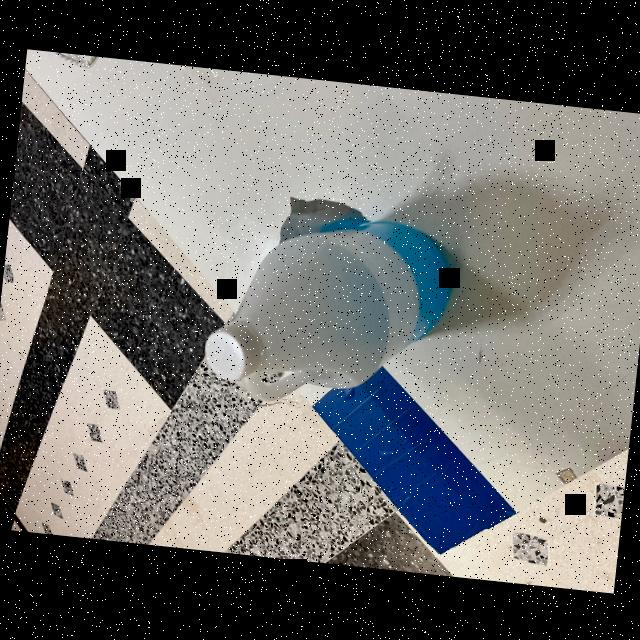chemical_plastic_gallon: (189, 192, 464, 419)
